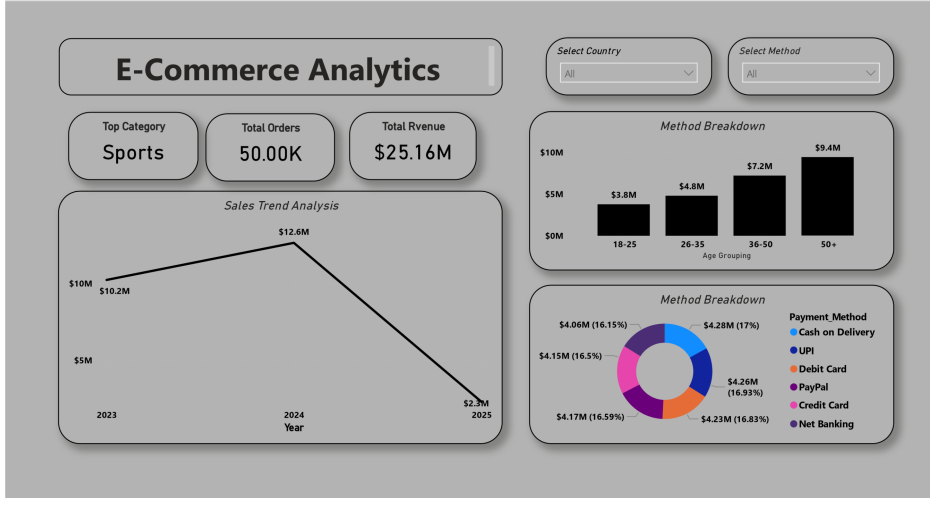

The page's visual inventory and layout, read from the dashboard file:
{"tool":"powerbi","page":{"name":"Page 1","canvas":[1280,720],"ordinal":0},"visuals":[{"type":"lineChart","title":"Sales Trend Analysis","fields":{"Category":["ecommerce_transactions.Transaction_Date.Variation.Date Hierarchy.Year"],"Y":["Sum(ecommerce_transactions. Purchase_Amount )"]},"box":[73.3,295,615,350],"z":0},{"type":"card","title":"Total Rvenue","fields":{"Values":["Sum(ecommerce_transactions. Purchase_Amount )"]},"box":[476,185.7,175.8,94.8],"z":1000},{"type":"slicer","title":"Select Country","fields":{"Values":["ecommerce_transactions.Country"]},"box":[748.3,83.3,230,80],"z":2000},{"type":"card","title":"Total Orders","fields":{"Values":["CountNonNull(ecommerce_transactions.Transaction_ID)"]},"box":[276.5,187.7,179.8,94.8],"z":3000},{"type":"slicer","title":"Select Method","fields":{"Values":["ecommerce_transactions.Payment_Method"]},"box":[1000,83.3,230,80],"z":4000},{"type":"donutChart","title":"Method Breakdown","fields":{"Category":["ecommerce_transactions.Payment_Method"],"Y":["Sum(ecommerce_transactions. Purchase_Amount )"]},"box":[725,425,505,220],"z":5000},{"type":"columnChart","title":"Method Breakdown","fields":{"Category":["ecommerce_transactions.Age Grouping"],"Y":["Sum(ecommerce_transactions. Purchase_Amount )"]},"box":[725,185,505,220],"z":6000},{"type":"textbox","box":[73.9,84.1,614.5,79],"z":7000},{"type":"card","title":"Top Category","fields":{"Values":["Min(ecommerce_transactions.Product_Category)"]},"box":[86.9,185.7,179.8,94.8],"z":9000}]}

Visuals, with their boxes in screenshot pixels (x1, y1, x2, y2):
"Sales Trend Analysis" lineChart: 60 188 502 439
"Total Rvenue" card: 349 109 476 177
"Select Country" slicer: 545 36 710 93
"Total Orders" card: 206 111 335 179
"Select Method" slicer: 726 36 891 93
"Method Breakdown" donutChart: 528 281 891 439
"Method Breakdown" columnChart: 528 109 891 267
textbox: 60 36 502 93
"Top Category" card: 70 109 199 177
